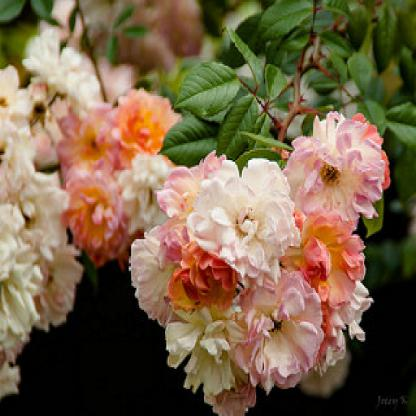ROSE-MAWAR: (120, 109, 397, 412)
